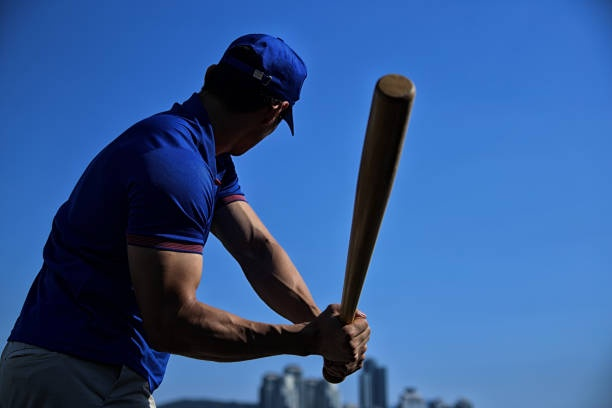bita: (331, 77, 410, 384)
